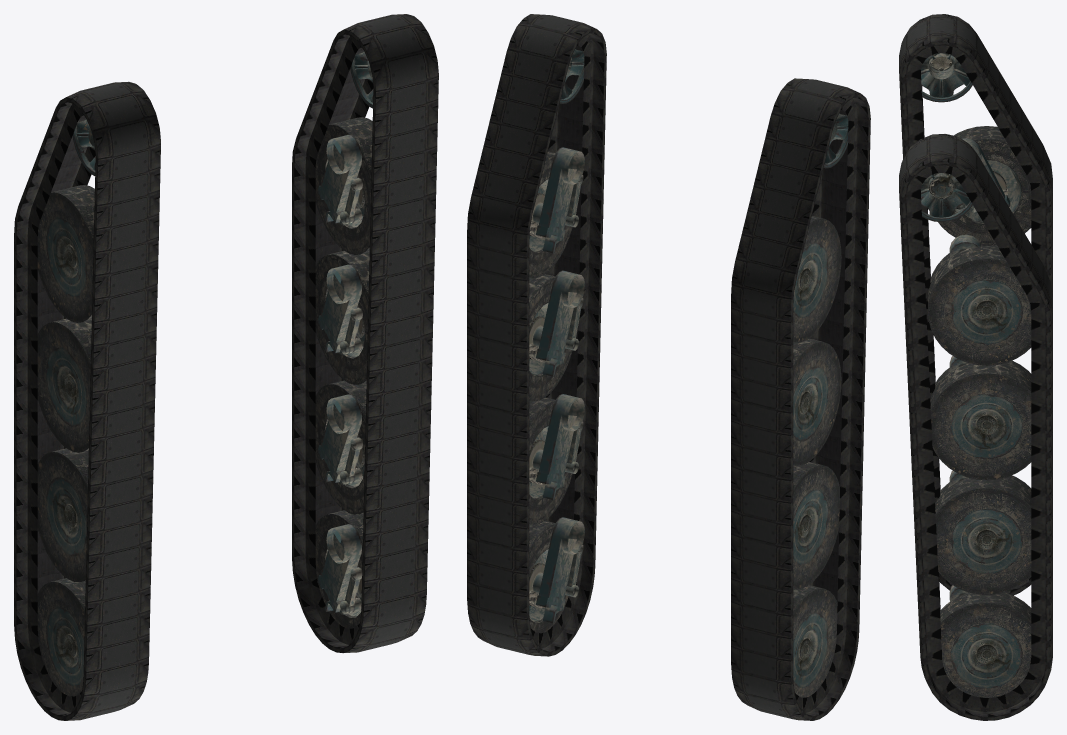
Rendered from Chassis.glb.
The picture shows the model from 3 angles, left to right: view 1: azimuth 30°, elevation 25°; view 2: azimuth 150°, elevation 25°; view 3: azimuth 270°, elevation 25°; orthographic projection. The views are drawn at different scales.
Parts seen in each view (by area): view 1: set_1_group_0, set_0_group_0, set_2_group_0, set_3_group_0; view 2: set_1_group_0, set_0_group_0, set_3_group_0, set_2_group_0; view 3: set_3_group_0, set_0_group_0, set_1_group_0, set_2_group_0.
Part boxes in pixels (<box>): set_1_group_0: <box>14,81,160,720</box>; set_0_group_0: <box>292,14,438,653</box>; set_2_group_0: <box>37,119,95,696</box>; set_3_group_0: <box>315,51,373,628</box>; set_1_group_0: <box>731,78,870,720</box>; set_0_group_0: <box>467,14,606,656</box>; set_3_group_0: <box>529,49,584,633</box>; set_2_group_0: <box>793,113,848,697</box>; set_3_group_0: <box>921,173,1031,697</box>; set_0_group_0: <box>899,134,1052,720</box>; set_1_group_0: <box>899,14,1052,595</box>; set_2_group_0: <box>921,53,1031,495</box>.
Size of the model in its own units: 3.09 by 5.54 by 1.37.
4 materials, 4 textured.
